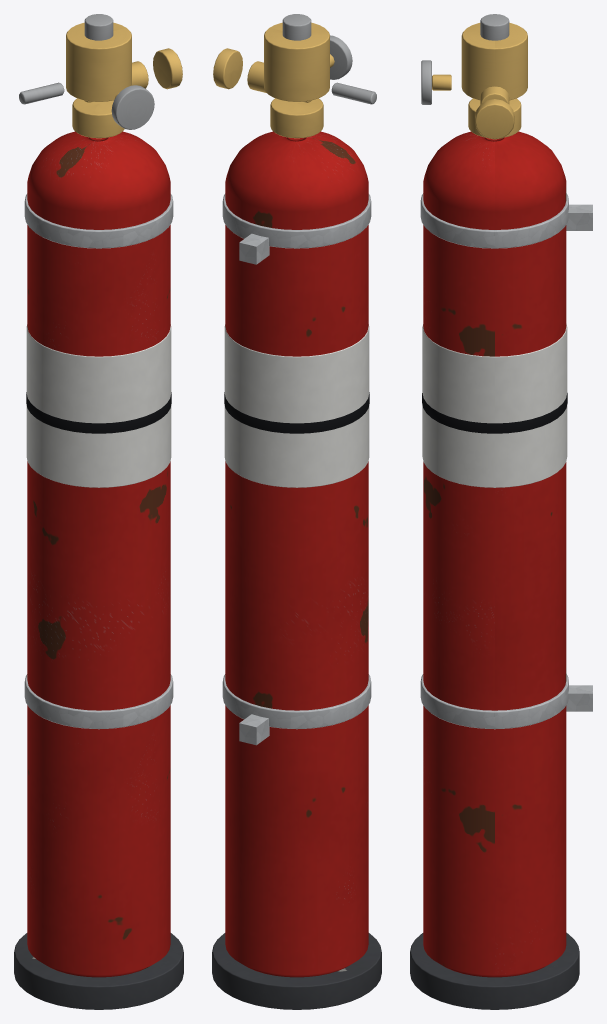
The model's file is fire-suppression-cylinder.glb.
3 views of the same model, side by side, from view 1: azimuth 30°, elevation 25°; view 2: azimuth 150°, elevation 25°; view 3: azimuth 270°, elevation 25° (orthographic).
Parts seen in each view (by area): view 1: fire-suppression-cylinder; view 2: fire-suppression-cylinder; view 3: fire-suppression-cylinder.
Boxes of the visible parts, box(x1,y1,x2,y2) form: fire-suppression-cylinder: box(14, 14, 183, 1009); fire-suppression-cylinder: box(212, 14, 381, 1009); fire-suppression-cylinder: box(410, 14, 592, 1009).
Size of the model in its own units: 0.265 by 1.59 by 0.276.
Materials: 11 (10 with a texture image).
